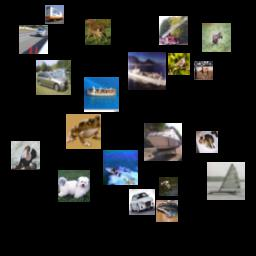automobile: (36, 60, 71, 95), (19, 25, 48, 54), (129, 189, 155, 215)
bird: (11, 141, 40, 170), (168, 53, 190, 75), (159, 177, 178, 196)
cat: (196, 131, 218, 153)
deer: (202, 23, 231, 52), (85, 19, 111, 45)
dog: (58, 170, 90, 202)
frog: (66, 114, 101, 149), (156, 200, 178, 222)
ship: (128, 52, 166, 90), (207, 162, 245, 200), (144, 123, 182, 161), (84, 77, 119, 112), (103, 150, 138, 185)
truck: (159, 16, 188, 45), (45, 5, 64, 24)
